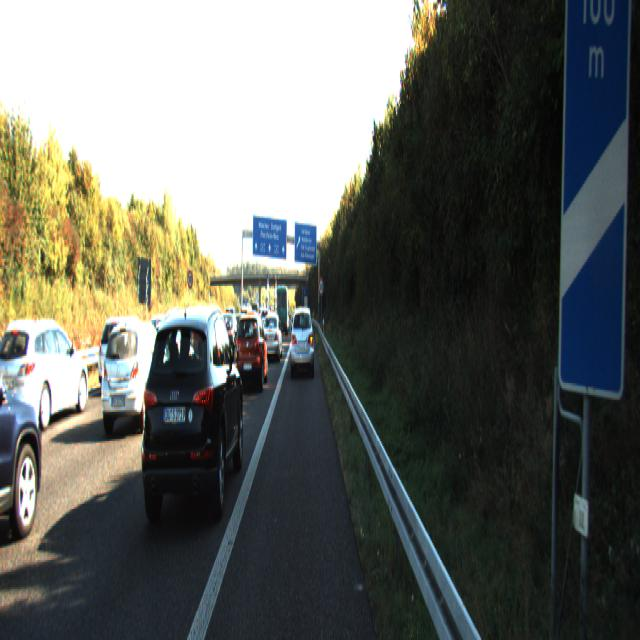Car: (137, 305, 245, 541), (0, 305, 46, 558), (0, 316, 90, 438), (98, 318, 172, 438), (98, 312, 151, 396), (234, 310, 268, 391), (290, 304, 314, 377), (214, 312, 240, 364), (262, 311, 282, 361), (276, 282, 288, 334)
